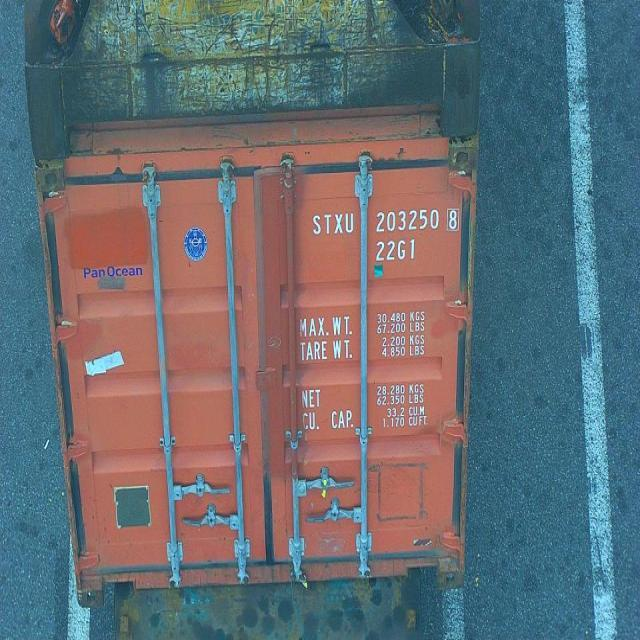ISO: (374, 238, 419, 262)
container_number: (312, 208, 462, 235)
